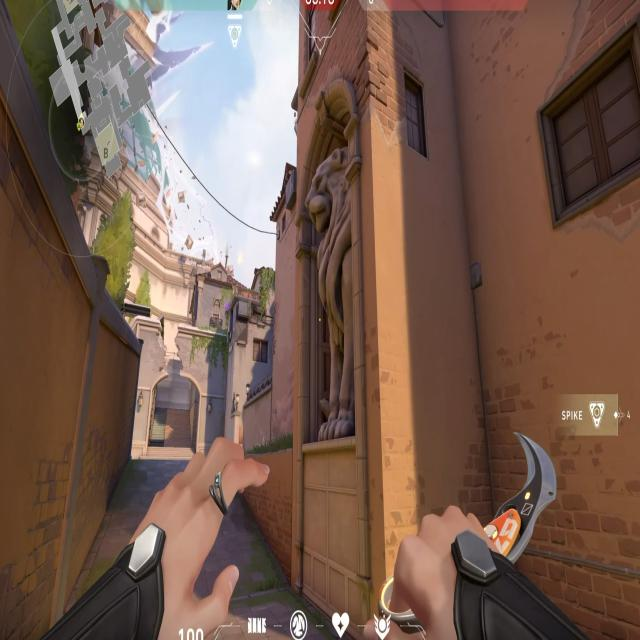Lion_Corner: (286, 122, 374, 469)
